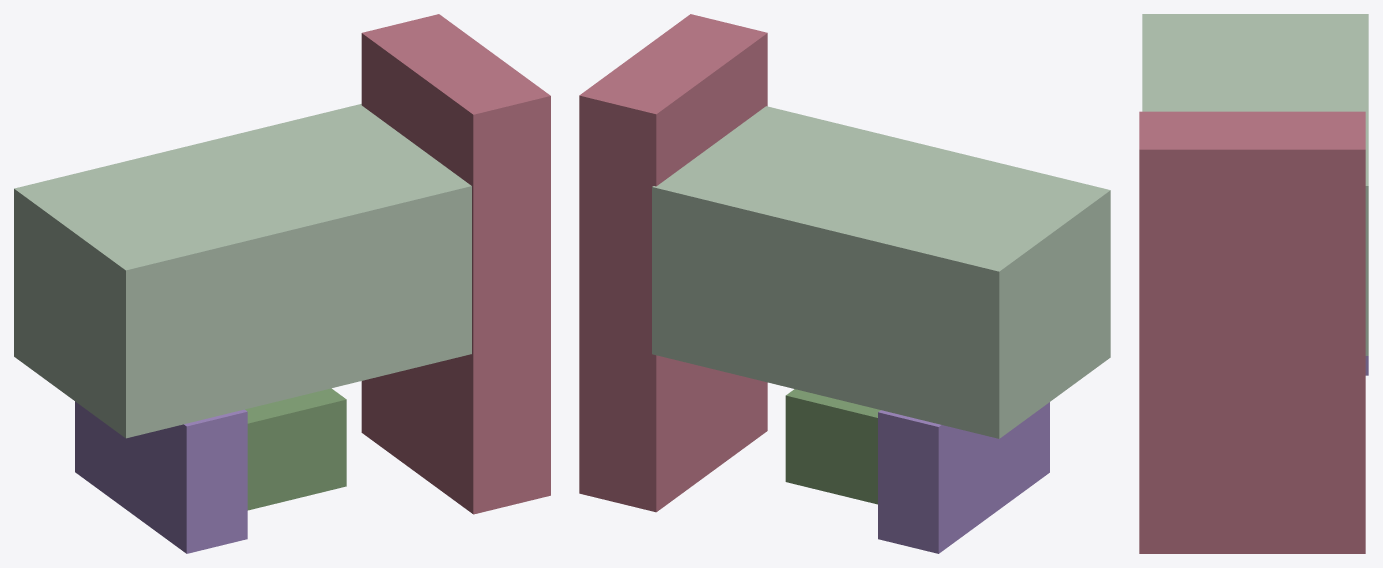
The picture shows the model from 3 angles, left to right: view 1: azimuth 30°, elevation 25°; view 2: azimuth 150°, elevation 25°; view 3: azimuth 270°, elevation 25°; orthographic projection.
Parts seen in each view (by area): view 1: world; view 2: world; view 3: world.
Boxes of the visible parts, x1,y1,x2,y2 form: world: [14, 14, 550, 553]; world: [579, 14, 1110, 553]; world: [1139, 14, 1368, 553].
Bounding box in the file's own units: 7.65 × 6.9 × 3.55.
